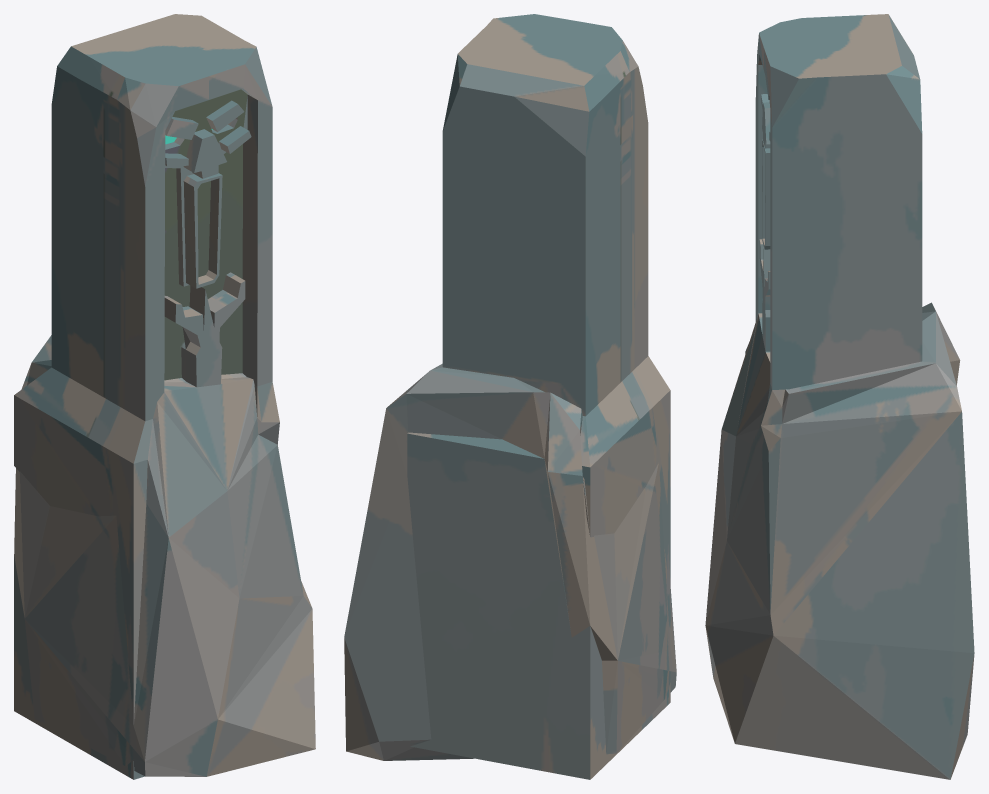
Rendered from s_stone ghost01_01.fbx.
3 renders of one model, left to right at view 1: azimuth 30°, elevation 25°; view 2: azimuth 150°, elevation 25°; view 3: azimuth 270°, elevation 25°, orthographic. The views are drawn at different scales.
Visible parts, largest first — view 1: s_stone ghost01_01; view 2: s_stone ghost01_01; view 3: s_stone ghost01_01.
Boxes of the visible parts, bbox=[...] form: s_stone ghost01_01: bbox=[14, 14, 315, 779]; s_stone ghost01_01: bbox=[344, 14, 676, 779]; s_stone ghost01_01: bbox=[705, 14, 974, 779].
Size of the model in its own units: 185 by 500 by 182.
Materials: 1 (1 with a texture image).
